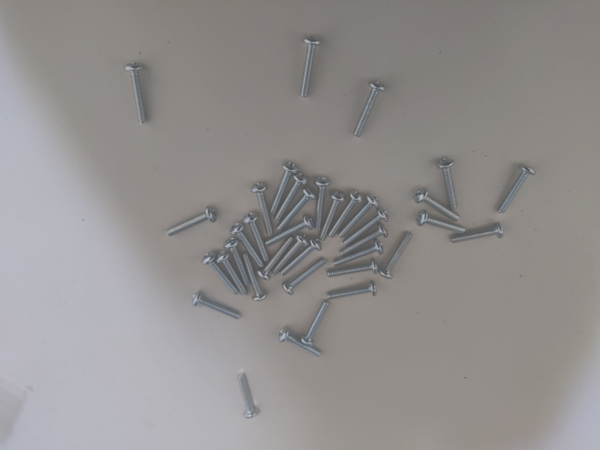longscrew: (498, 166, 538, 213), (437, 154, 470, 210), (296, 38, 325, 100), (356, 78, 384, 140), (379, 231, 415, 279), (331, 189, 364, 240), (279, 189, 319, 231), (276, 173, 310, 222), (271, 159, 300, 215), (342, 211, 389, 245), (414, 187, 463, 219), (282, 260, 322, 299), (164, 208, 219, 236), (202, 253, 240, 293), (266, 216, 314, 247), (233, 222, 263, 270), (193, 295, 242, 324), (127, 59, 148, 126), (340, 200, 377, 238), (284, 241, 321, 279), (335, 242, 385, 269), (452, 224, 509, 247), (321, 187, 346, 239), (261, 239, 291, 281), (275, 234, 305, 276), (340, 228, 388, 254), (245, 211, 269, 262), (219, 252, 246, 296), (279, 332, 320, 358), (327, 284, 380, 304), (327, 262, 380, 282), (242, 254, 264, 302), (303, 303, 329, 343), (316, 171, 333, 231), (254, 181, 271, 237), (228, 240, 249, 284), (414, 214, 466, 231), (241, 371, 255, 421)
